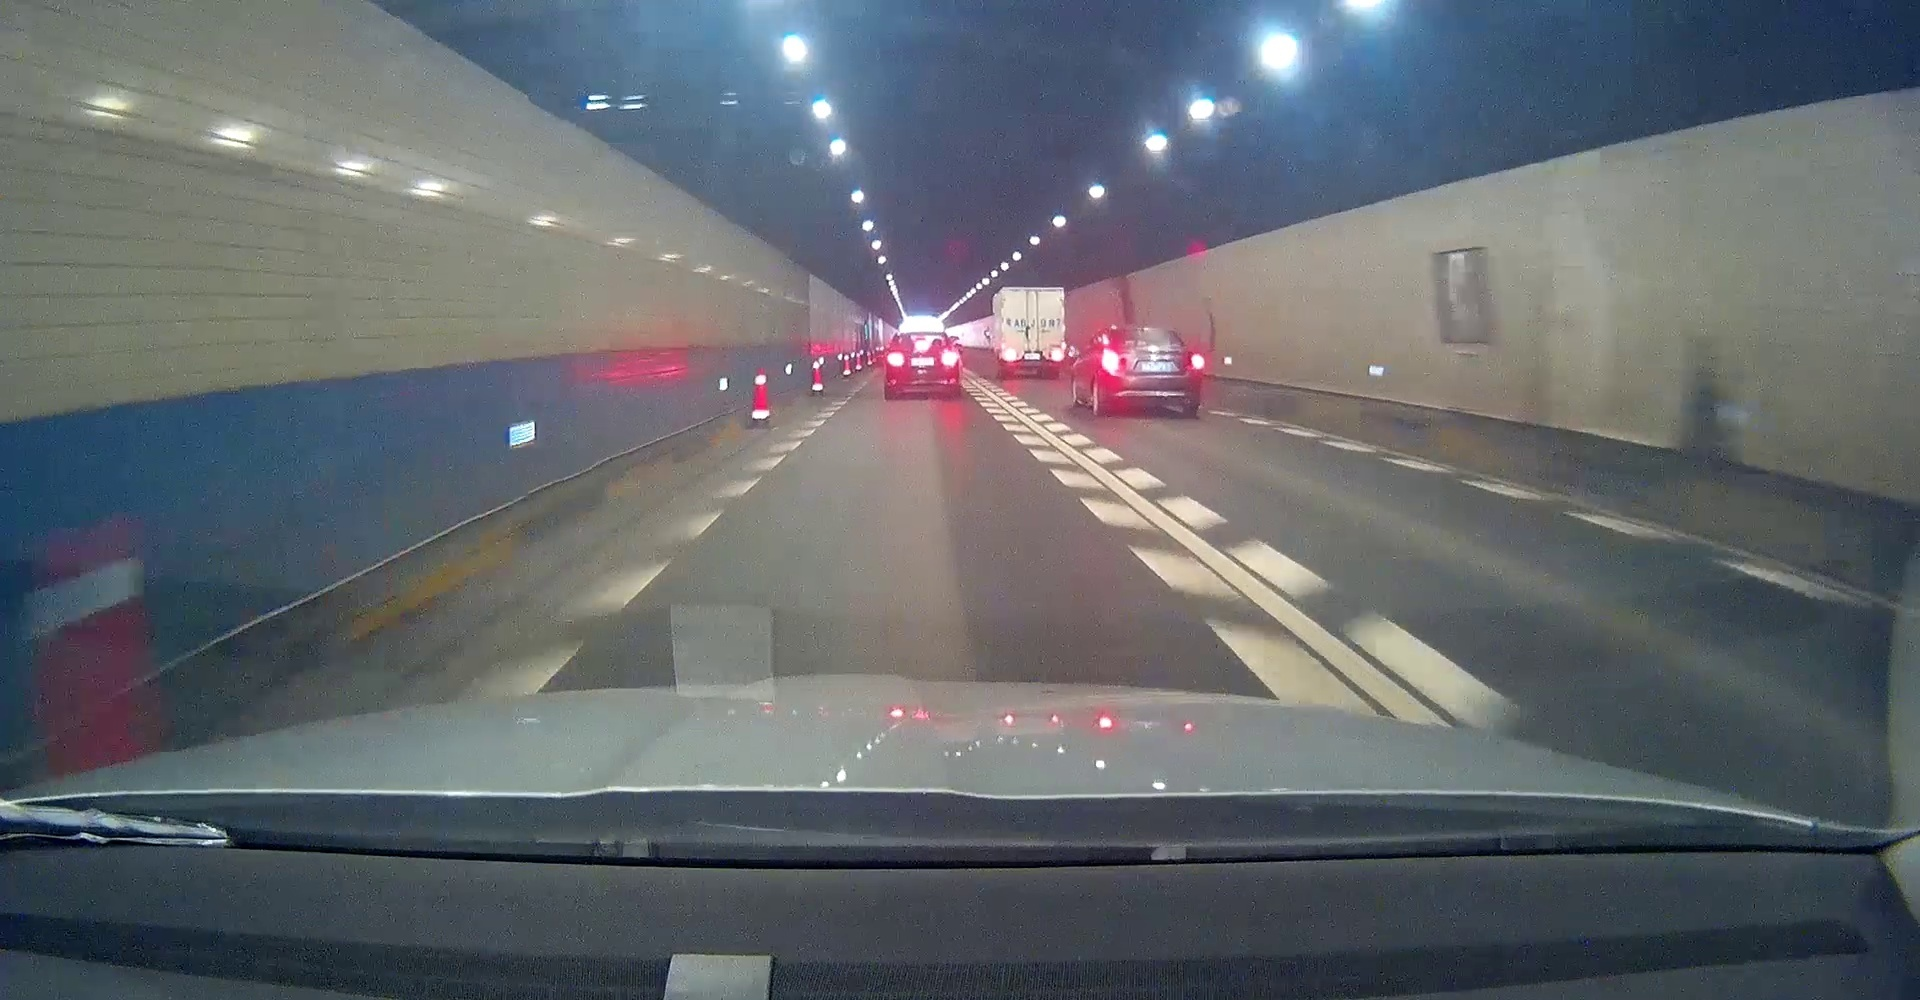L_light: (1102, 349, 1119, 372), (888, 353, 904, 365), (1004, 350, 1017, 360)
R_light: (940, 352, 957, 365), (1191, 353, 1203, 369), (1050, 349, 1063, 360)
T_light: (1137, 345, 1159, 352), (916, 340, 930, 349), (1025, 291, 1039, 294)
day-brake: (885, 331, 963, 398)
day-no: (1100, 327, 1203, 418), (1001, 287, 1065, 379)
